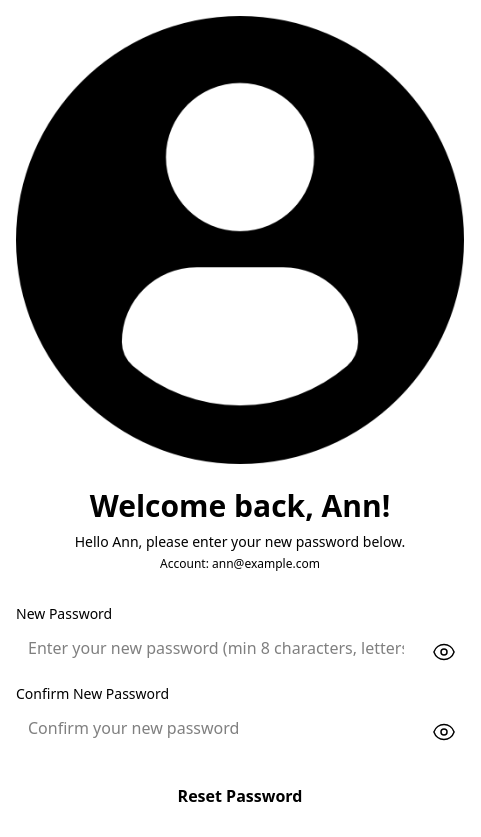
Reset password page: setting the password › confirms the change and the verified email, then redirects
Type "NewPassw0rd" into the password field with id "newPassword". click: (216, 648)
box: 16,628 -> 416,668
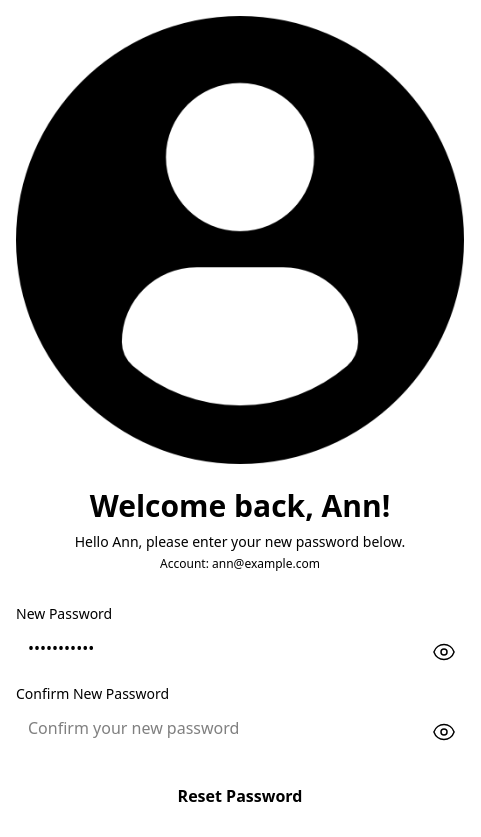
Type "NewPassw0rd" into the password field with id "confirmPassword". click: (216, 728)
box: 16,708 -> 416,748
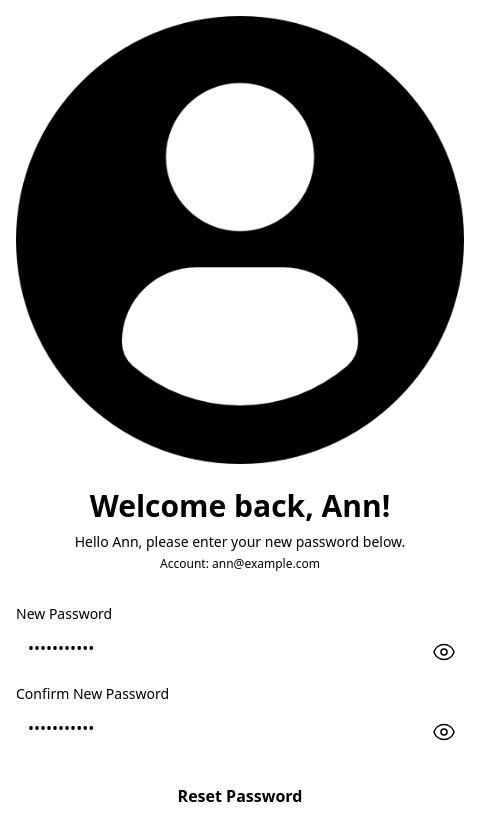
Submit the form, box 16,604 -> 464,820
Wait 3000 ms
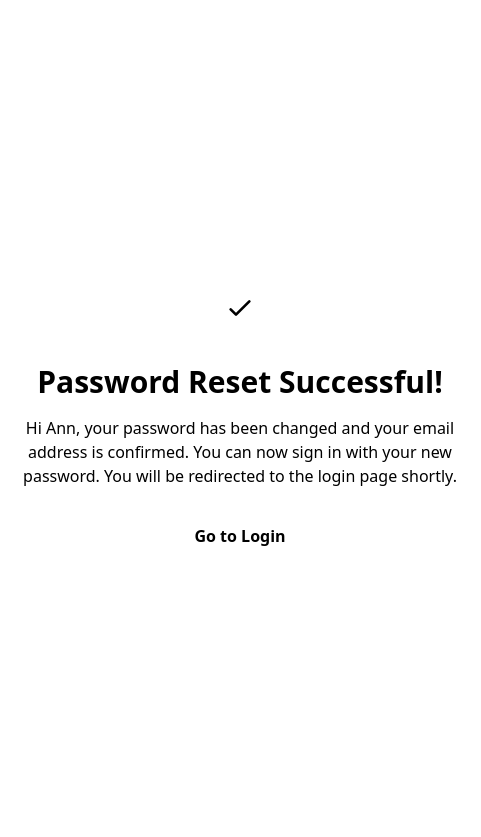
Expected: the heading "Password Reset Successful!" is shown, 16,364 -> 464,400
Expected: the text "password has been changed and your email address is confirmed" is shown, 23,417 -> 457,487
